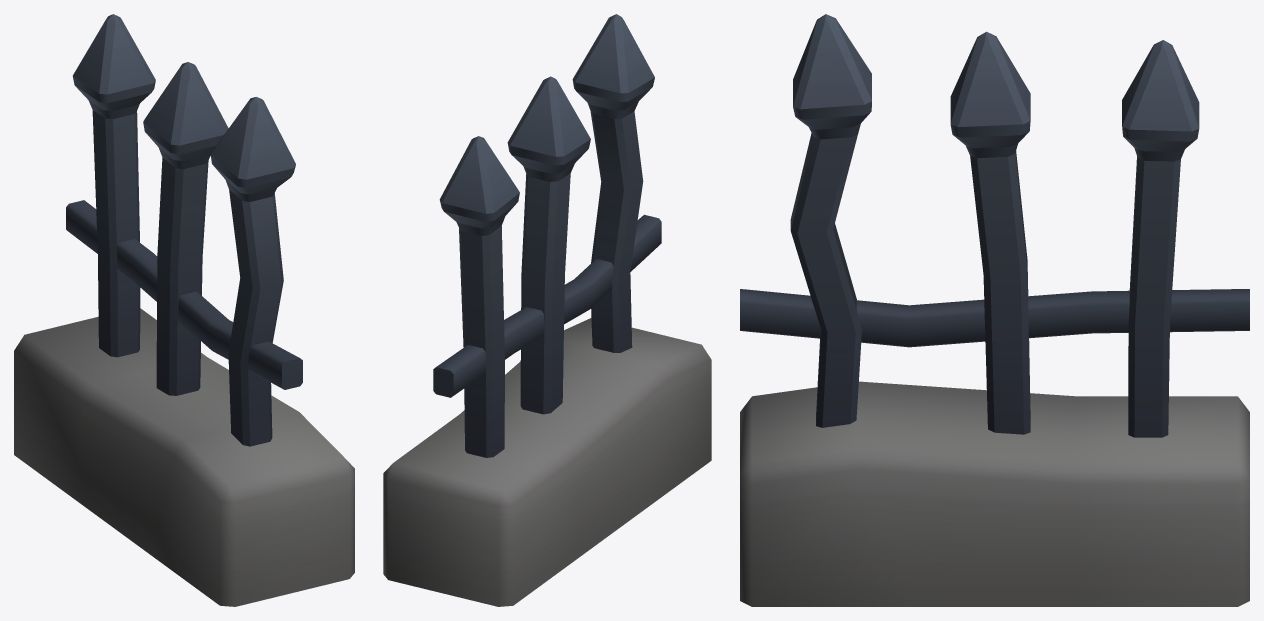
File: Fence_5_1.obj
3 views of the same model, side by side, from view 1: azimuth 30°, elevation 25°; view 2: azimuth 150°, elevation 25°; view 3: azimuth 270°, elevation 25° (orthographic). The views are drawn at different scales.
Parts seen in each view (by area): view 1: Fence_5_1; view 2: Fence_5_1; view 3: Fence_5_1.
Boxes of the visible parts, bbox=[...] form: Fence_5_1: bbox=[14, 14, 354, 606]; Fence_5_1: bbox=[383, 14, 711, 606]; Fence_5_1: bbox=[740, 14, 1249, 606].
Bounding box in the file's own units: 0.3514 × 1.17 × 0.9745.
